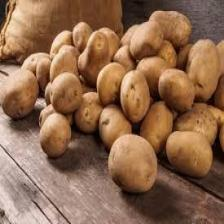Diseased-fungal potato: (106, 132, 160, 194), (164, 125, 214, 181), (0, 68, 41, 121), (76, 30, 113, 88), (118, 66, 149, 124), (158, 64, 194, 112), (47, 70, 82, 119), (37, 114, 75, 159), (127, 18, 164, 62)
